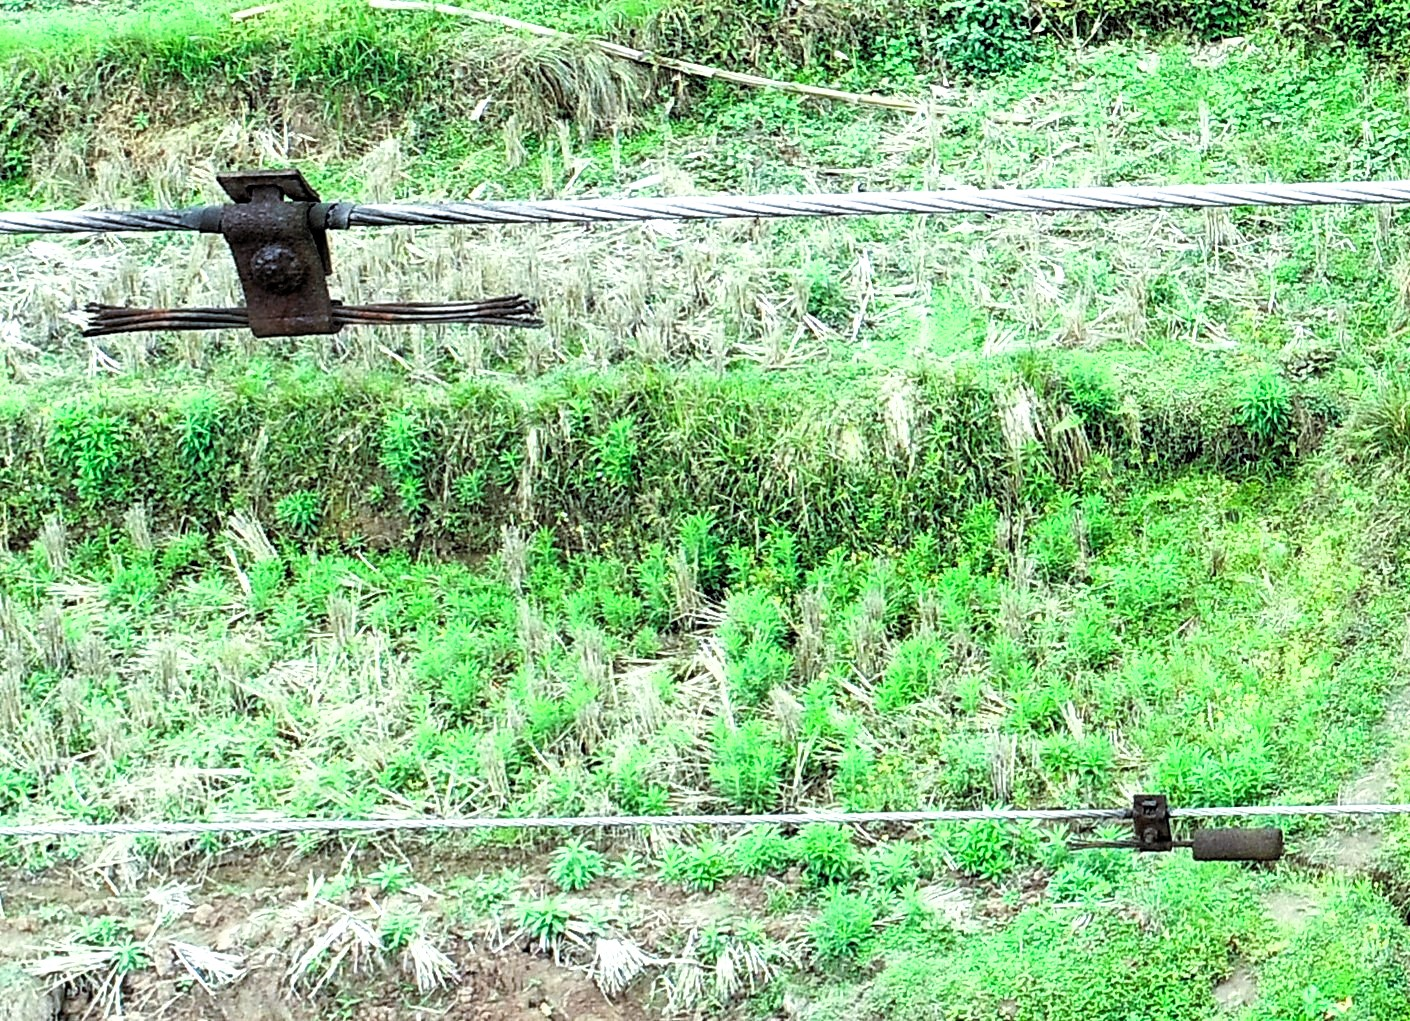Damage of shockproof hammer: (68, 150, 568, 385), (1057, 780, 1298, 875)
